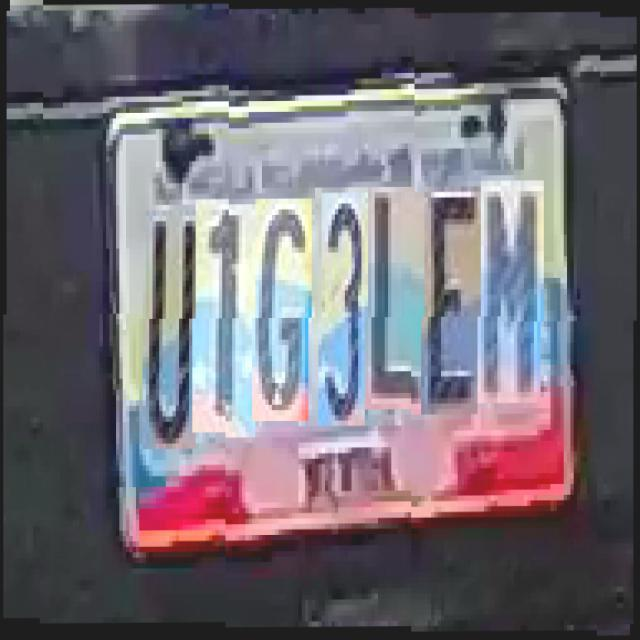1: (192, 200, 255, 432)
3: (318, 188, 365, 421)
E: (421, 176, 478, 404)
G: (252, 194, 308, 416)
L: (365, 182, 428, 404)
M: (478, 170, 540, 393)
U: (142, 210, 195, 450)
